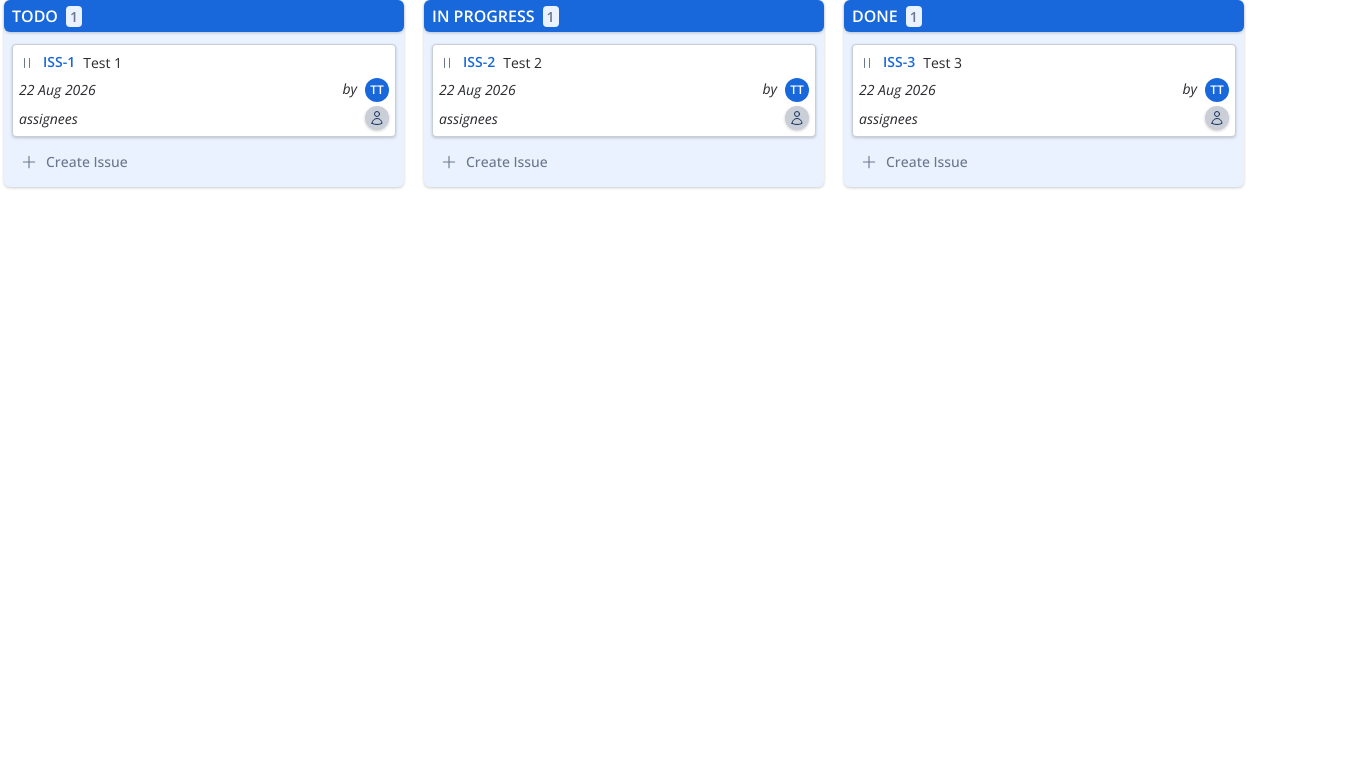
Test case: widgets/Board/ui/ › should open create issue modal when create button is clicked
Click the button "Create Issue" below "Test 1" at (74, 162), box [12,149,136,175]
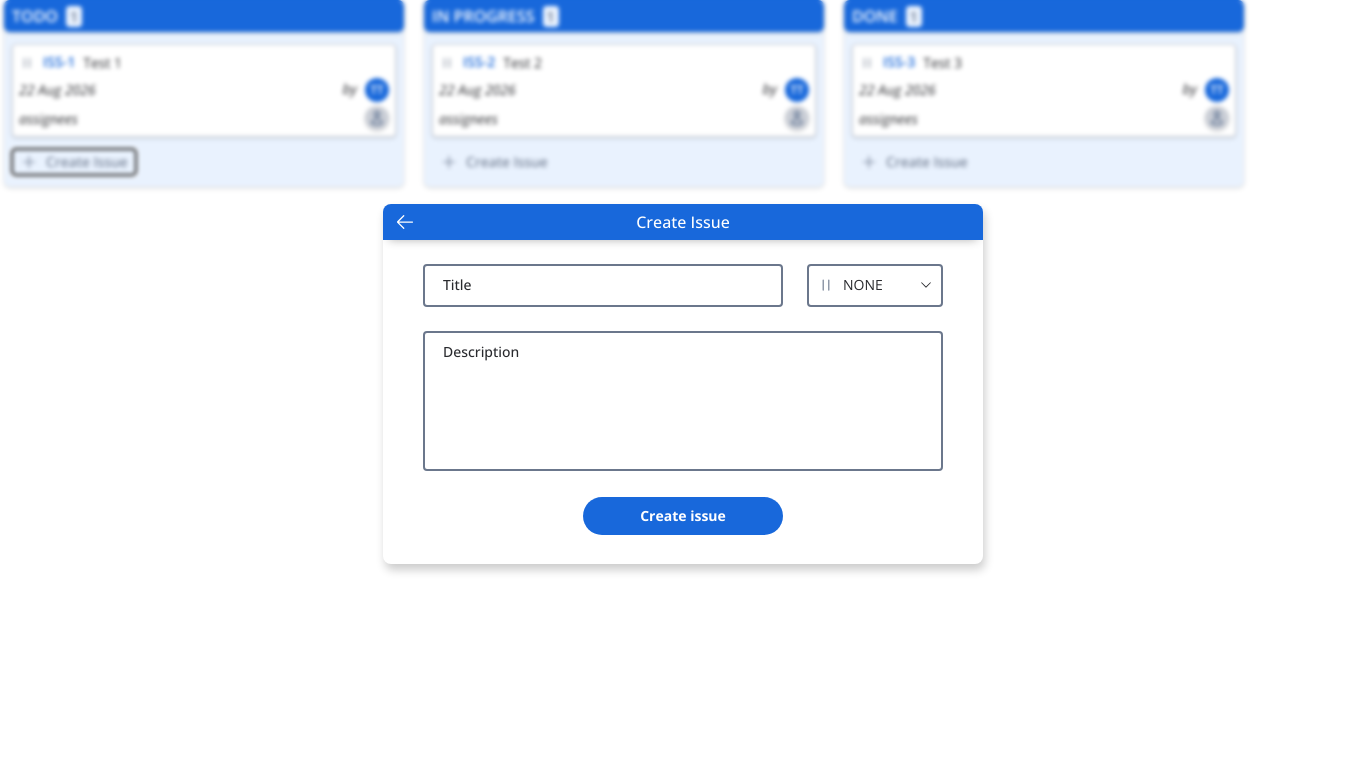
expect the dialog is shown: met, box [383,204,983,564]
